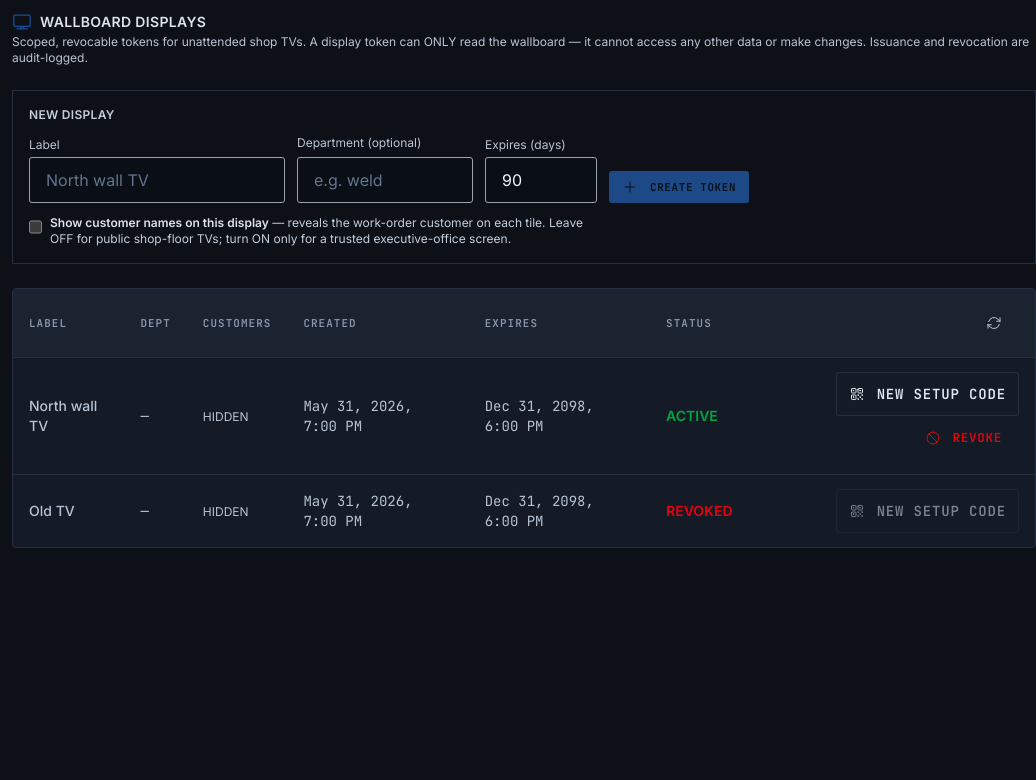
Test: DisplayTokensTab › surfaces a re-issue failure as an error toast
Expected: the text "North wall TV" is shown, [13,358,124,474]
Step 1. Click the button with test id "new-code-1" → point(927, 394), box [836,372,1019,416]
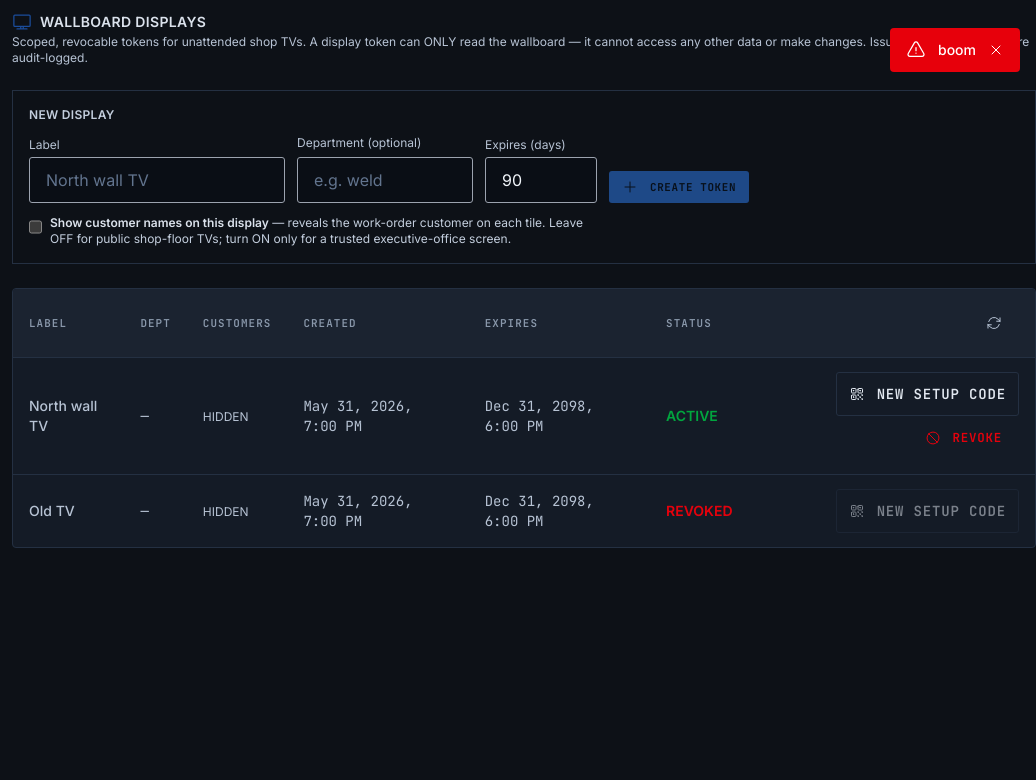
Expected: the text "boom" is shown, [938,40,976,60]
